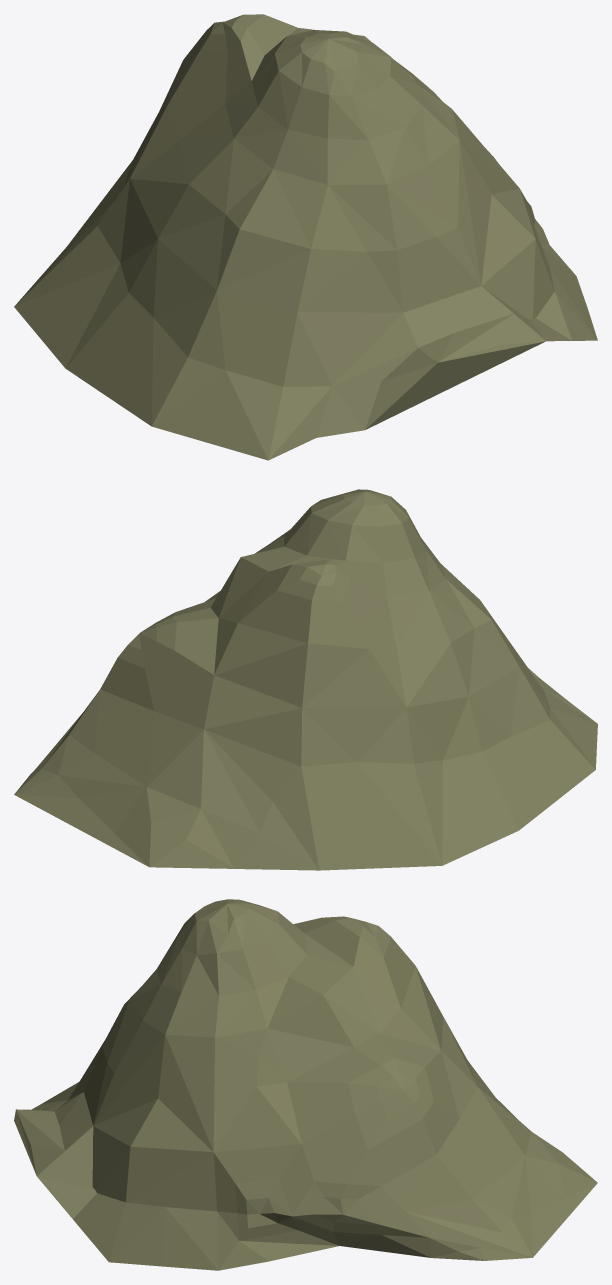
File: rock10.fbx
3 views of the same model, one above another, from view 1: azimuth 30°, elevation 25°; view 2: azimuth 150°, elevation 25°; view 3: azimuth 270°, elevation 25° (orthographic). The views are drawn at different scales.
Parts seen in each view (by area): view 1: rock10; view 2: rock10; view 3: rock10.
Part boxes in pixels (<box>): rock10: <box>14,14,597,460</box>; rock10: <box>14,489,597,870</box>; rock10: <box>14,899,597,1270</box>.
Bounding box in the file's own units: 0.2868 × 0.181 × 0.3496.
